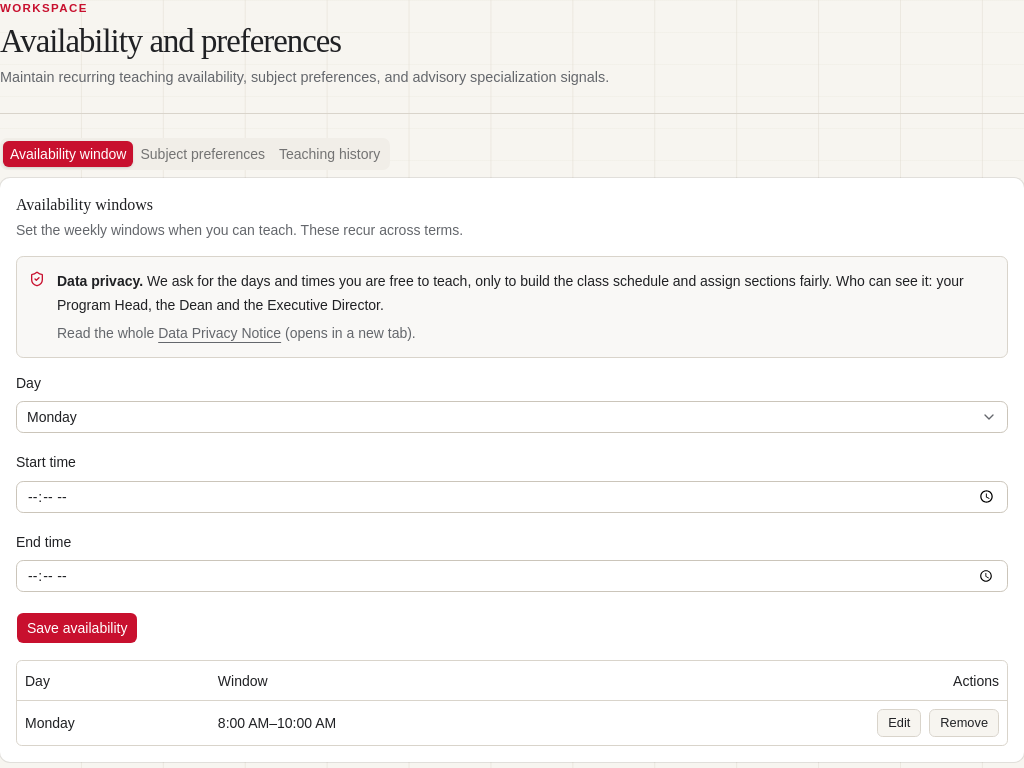
Test: FacultyInputWorkspace › keeps availability and subject preferences on separate tabs
Expected: the tab "Availability window" is shown, [3,141,134,167]
Click the tab "Subject preferences" at (203, 154), box [134,141,272,167]
(page scrolled)
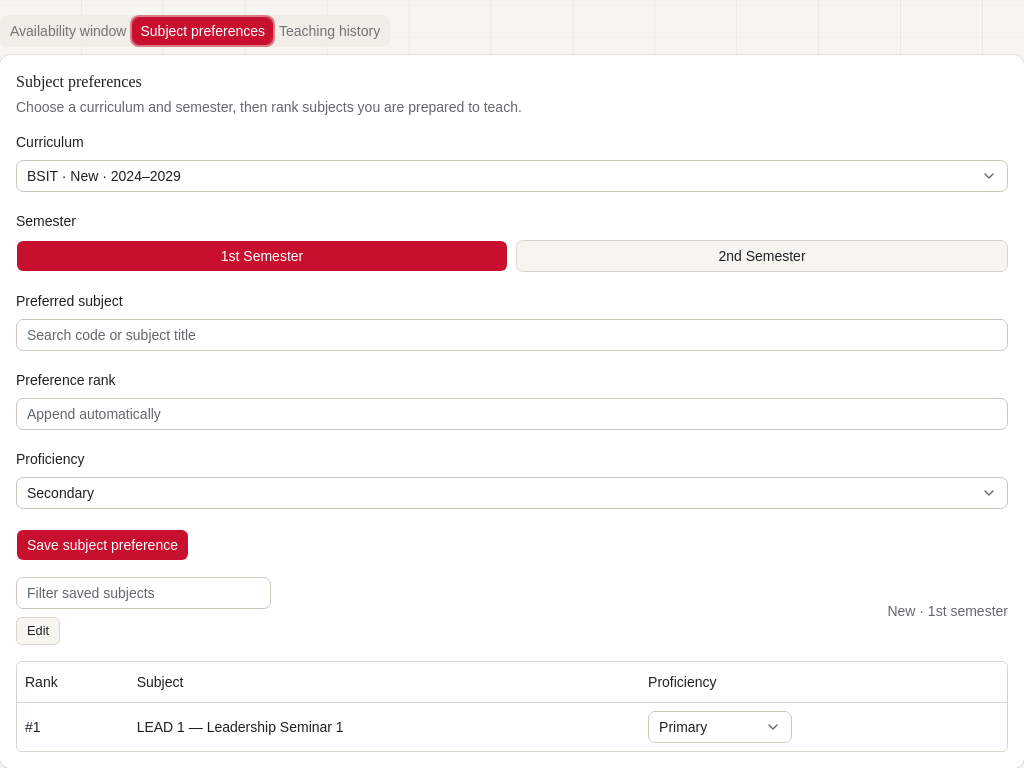
Now the table named "subject preferences" is shown, box [17,662,1007,751]
Now the label labelled "Day" is gone
